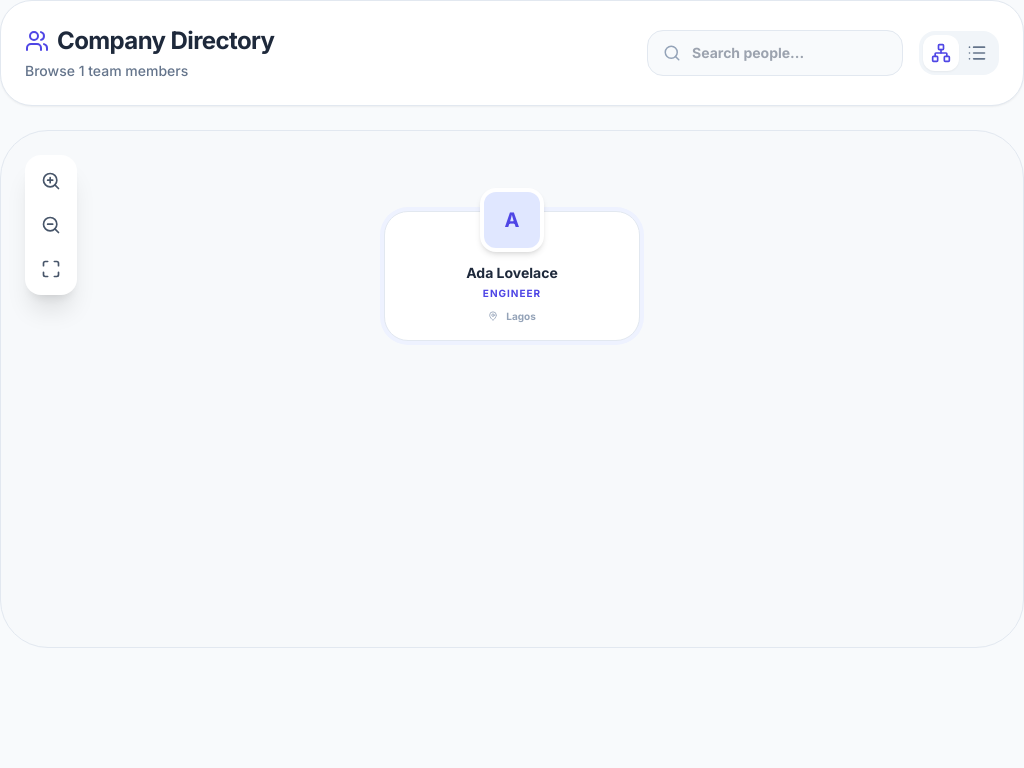
Test: Directory › List view › opens the employee detail slide-over on row click, showing contact and manager info
This screenshot has width=1024, height=768.
What coordinates should you click on to do the following:
click the 2nd button
I would click on:
 (977, 53)
Its box is [959,35,995,71].
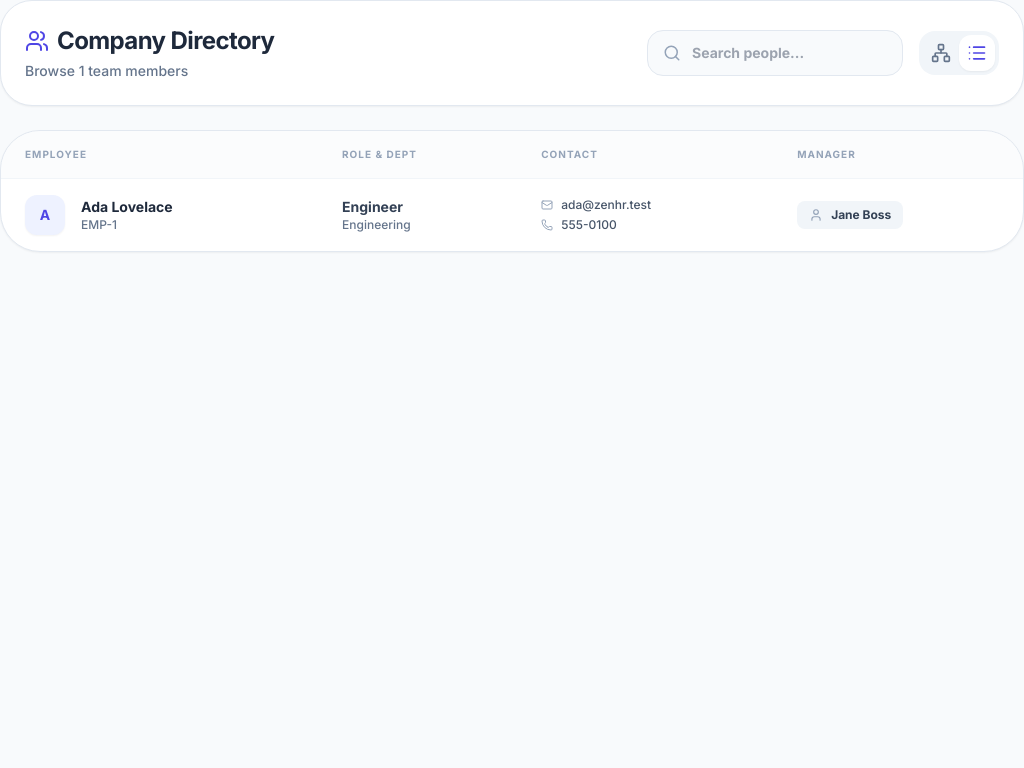
What coordinates should you click on to do the following:
click the text "Ada Lovelace"
I would click on:
 (127, 207)
Its box is [81,197,173,217].
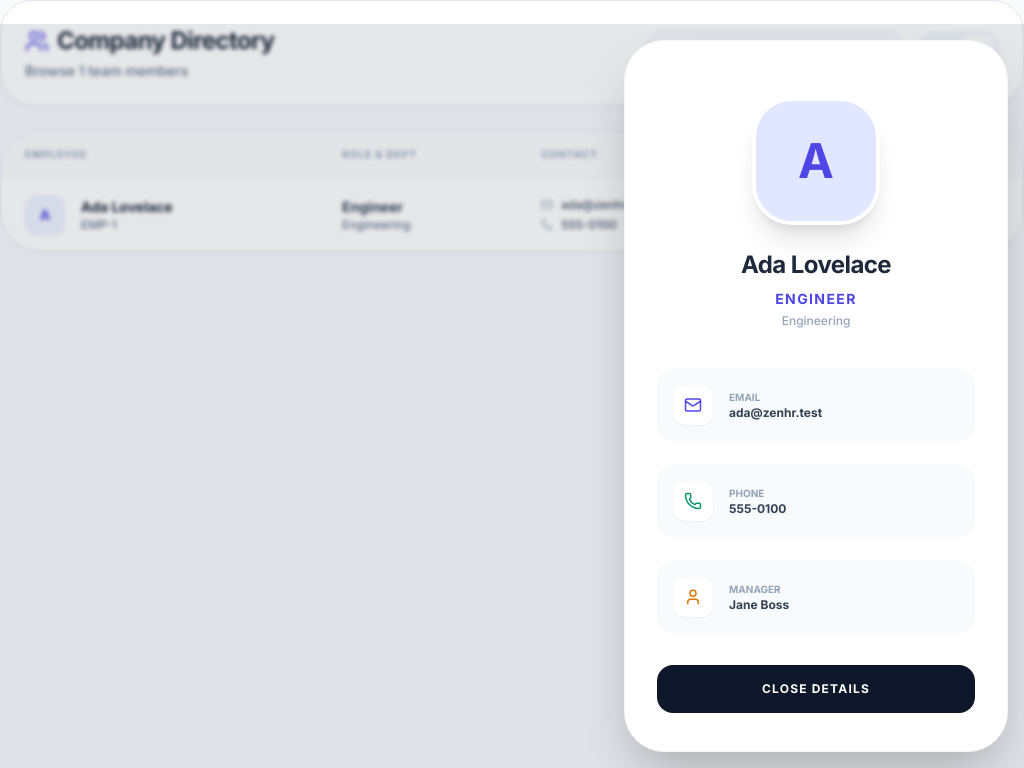
Expected: the text "ada@zenhr.test" is shown, [729,404,822,420]
Expected: the text "555-0100" is shown, [729,500,786,516]
Expected: the text "Jane Boss" is shown, [729,596,789,612]
What coordinates should you click on to do the following:
click the button "Close Details"
I would click on:
 (816, 689)
Its box is [657,665,975,713].
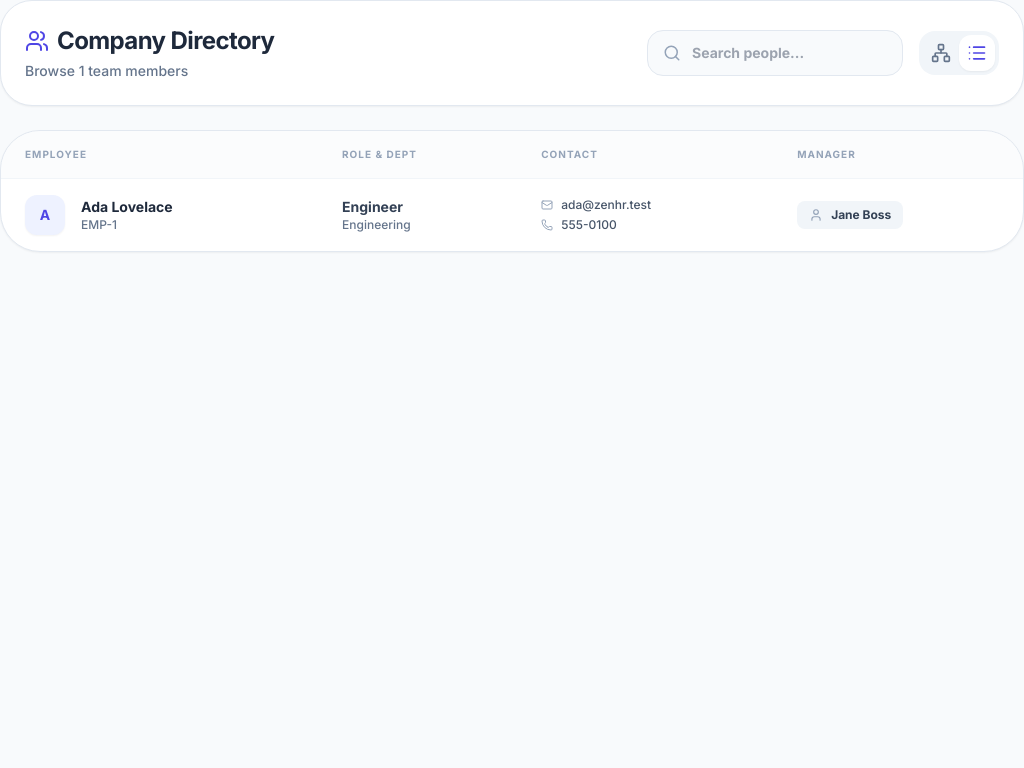
Expected: the button "Close Details" is gone
